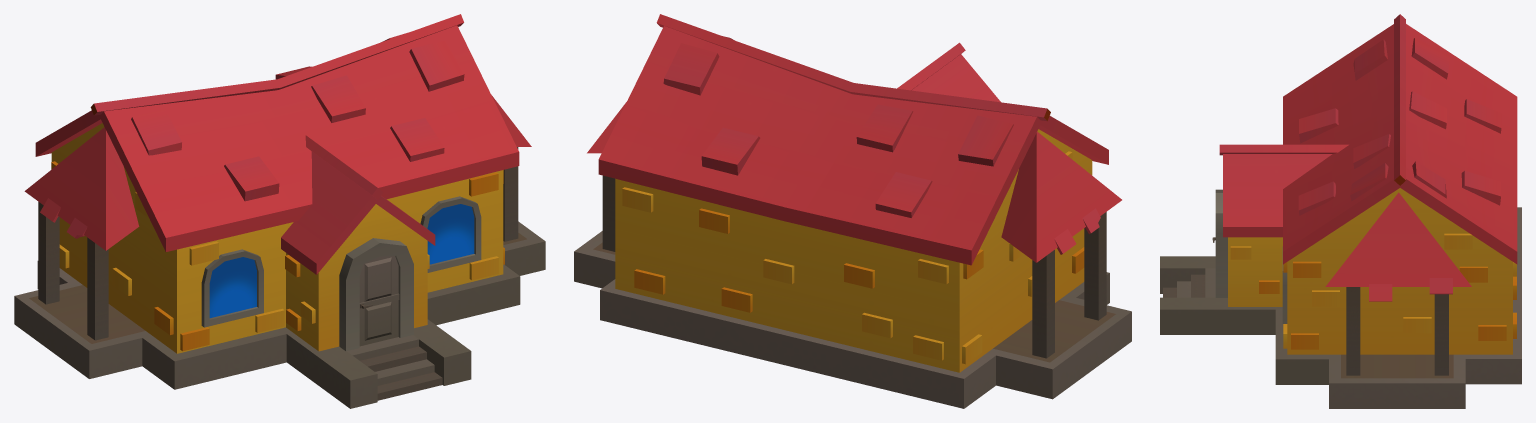
Rendered from SM_House_1.FBX.
The picture shows the model from 3 angles, left to right: view 1: azimuth 30°, elevation 25°; view 2: azimuth 150°, elevation 25°; view 3: azimuth 270°, elevation 25°; orthographic projection. The views are drawn at different scales.
Parts seen in each view (by area): view 1: SM_House_1; view 2: SM_House_1; view 3: SM_House_1.
Part boxes in pixels (left/top/right/bottom): SM_House_1: left=14, top=14, right=545, bottom=408; SM_House_1: left=574, top=14, right=1131, bottom=408; SM_House_1: left=1160, top=14, right=1521, bottom=408.
Size of what is drawn, in the model's own units: 1170 by 897 by 585.
